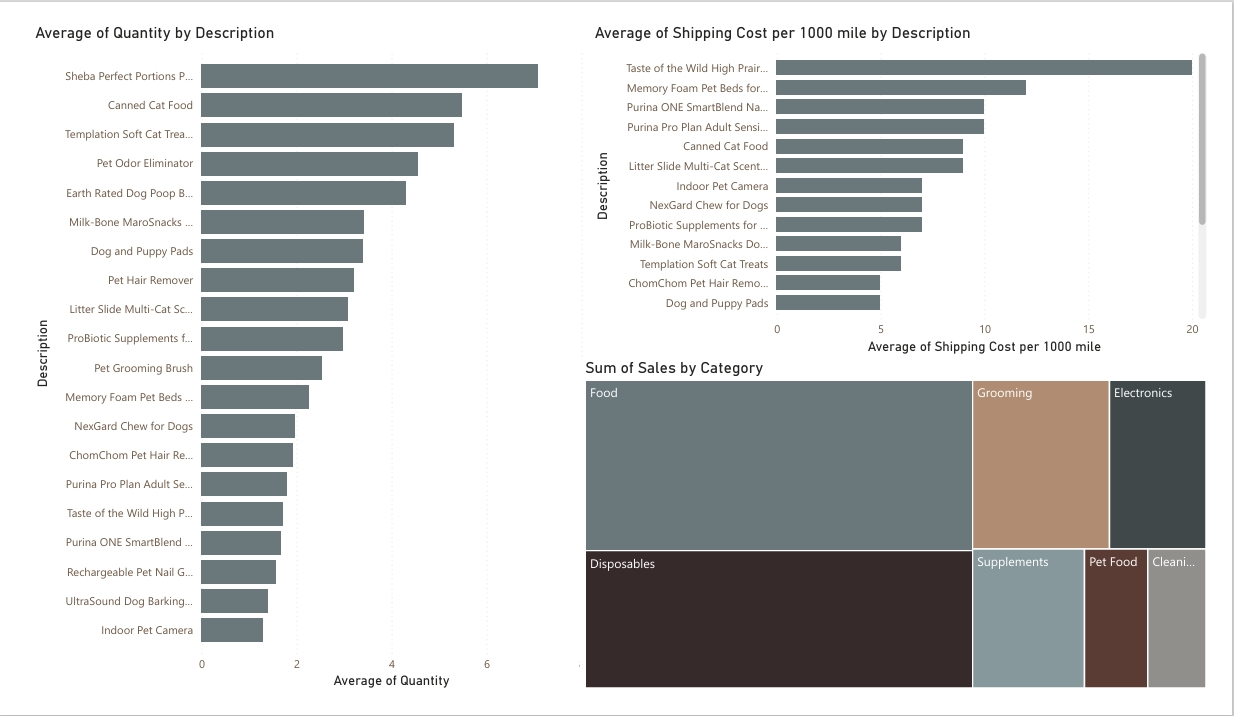

The page's visual inventory and layout, read from the dashboard file:
{"tool":"powerbi","page":{"name":"Product Info","canvas":[1280,720],"ordinal":5},"visuals":[{"type":"barChart","fields":{"Category":["Sales.Description"],"Y":["Avg(Sales.Quantity)"]},"box":[9.6,0,602.4,720.4],"z":0},{"type":"treemap","fields":{"Group":["Products.Category","Sales.Description"],"Values":["Sum(Sales.Sales)"]},"box":[602.4,359.5,677.9,360.9],"z":1000},{"type":"barChart","fields":{"Category":["Products.Description"],"Y":["Avg(Products.Shipping_Cost_1000_mile)"]},"box":[612,0,668,360],"z":2000}]}

Visuals, with their boxes on the page's 1280x720 design canvas (x1, y1, x2, y2). These are canvas units, not pixel positions in the 1234x716 screenshot, which may show the page scaled, cropped or inside an application window:
barChart - Sales.Description x Avg(Sales.Quantity): [10,0,612,720]
treemap - Products.Category x Sales.Description: [602,360,1280,720]
barChart - Products.Description x Avg(Products.Shipping_Cost_1000_mile): [612,0,1280,360]
